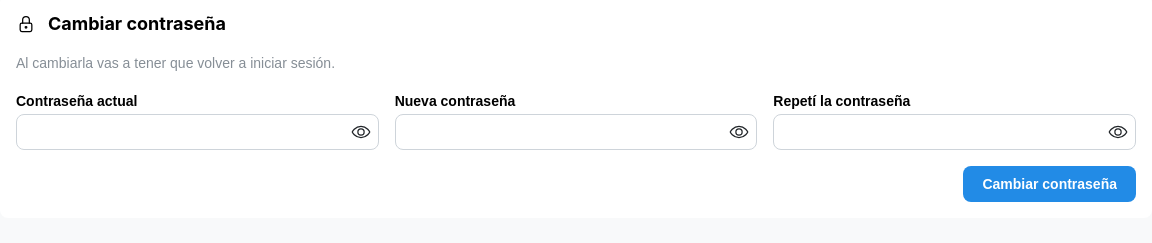
Test case: CambiarPasswordCard › valida que la nueva contraseña sea distinta de la actual
Type "claveIgual1" into the password field labelled "Contraseña actual".
click(197, 132); type("claveIgual1")  # box left=17, top=115, right=378, bottom=149
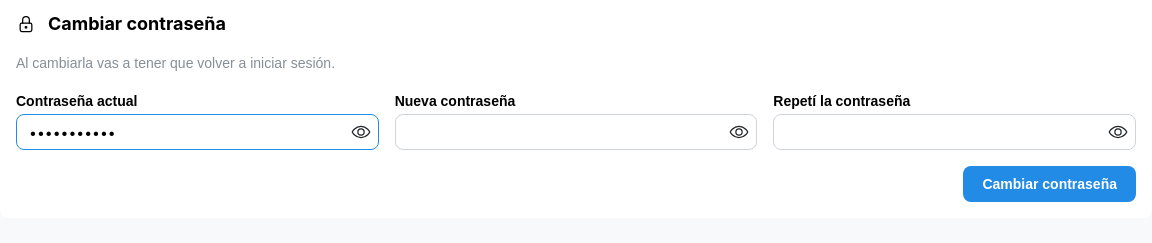
Type "claveIgual1" into the password field labelled "Nueva contraseña".
click(576, 132); type("claveIgual1")  # box left=396, top=115, right=756, bottom=149
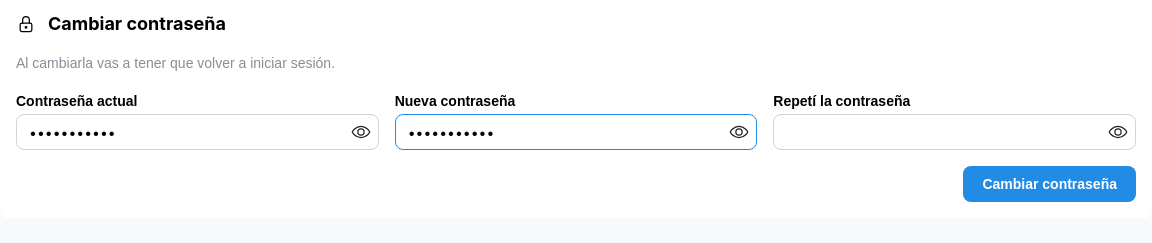
Type "claveIgual1" into the password field labelled "Repetí la contraseña".
click(955, 132); type("claveIgual1")  # box left=774, top=115, right=1135, bottom=149
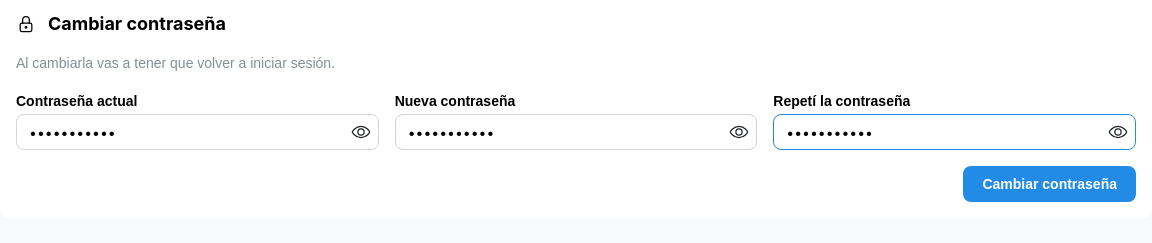
Click the button "Cambiar contraseña".
click(1050, 184)  # box left=963, top=166, right=1136, bottom=202
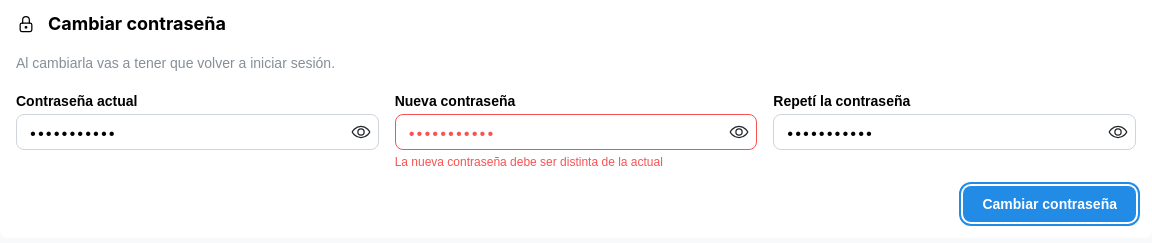
Result: the text "La nueva contraseña debe ser distinta de la actual" is shown at left=395, top=155, right=663, bottom=169
